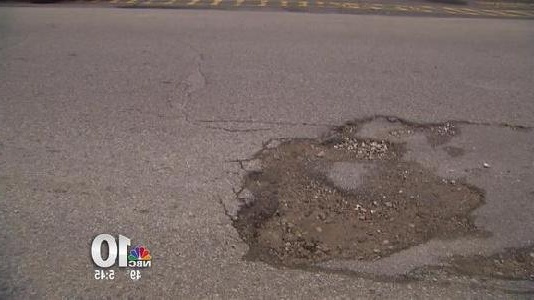pothole: (233, 114, 492, 265)
